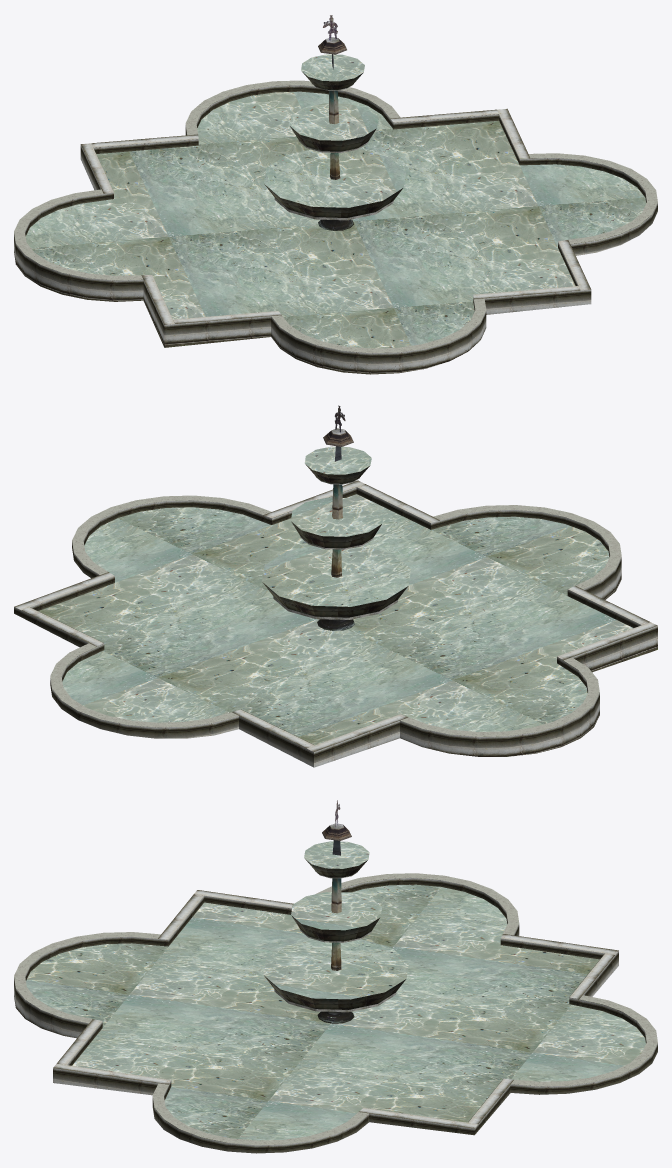
File: Tuturutu.dae
3 renders of one model, top to bottom at view 1: azimuth 30°, elevation 25°; view 2: azimuth 150°, elevation 25°; view 3: azimuth 270°, elevation 25°, orthographic. The views are drawn at different scales.
Visible parts, largest first — view 1: SketchUp (×16); view 2: SketchUp (×16); view 3: SketchUp (×16).
Boxes of the visible parts, <box> form: SketchUp (×16): <box>14,54,657,374</box>; SketchUp (×16): <box>14,446,657,767</box>; SketchUp (×16): <box>14,841,657,1153</box>.
Size of the model in its own units: 683 by 683 by 270.
Materials: 14 (14 with a texture image).
